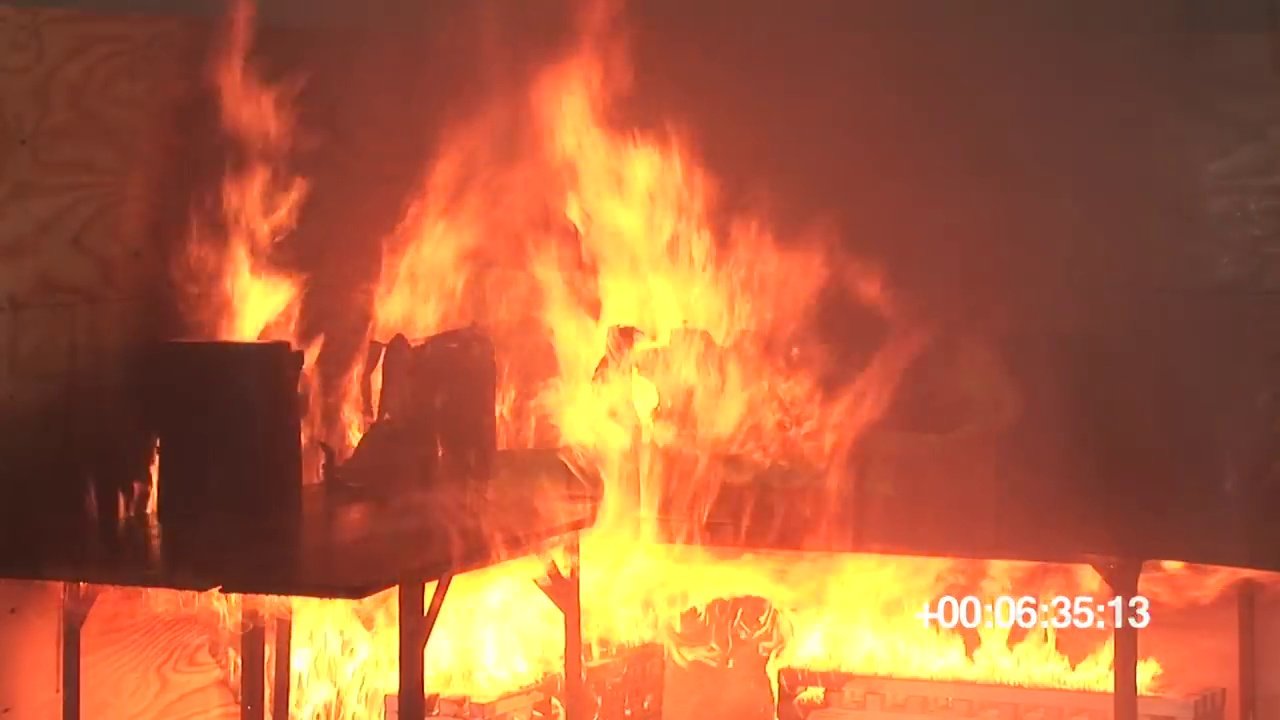fire: (378, 64, 902, 544), (415, 549, 1150, 692), (194, 592, 403, 719), (210, 68, 300, 338)
